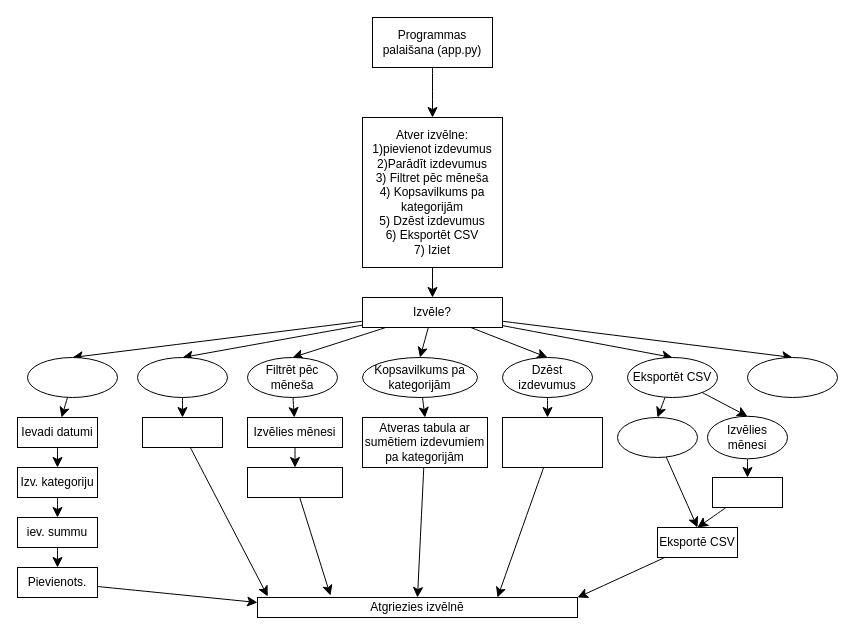
Some shapes in this 855 by 635 pixel diagram are drawn without their labels. The centre of each missing label's shape, as x and y in pixels:
"Iziet" goes at pixel 792 377.
"Izvēlies no saraksta kuru izdzēst" goes at pixel 552 442.
"Parāda visus izdevumus" goes at pixel 182 432.
"Parādīt izdevumus" goes at pixel 182 377.
"Pieejamie mēneši" goes at pixel 747 492.
"Pievienot izdevumu" goes at pixel 72 377.
"Visi mēneša izdevumi" goes at pixel 294 482.
"Visus izdevumus" goes at pixel 657 437.
